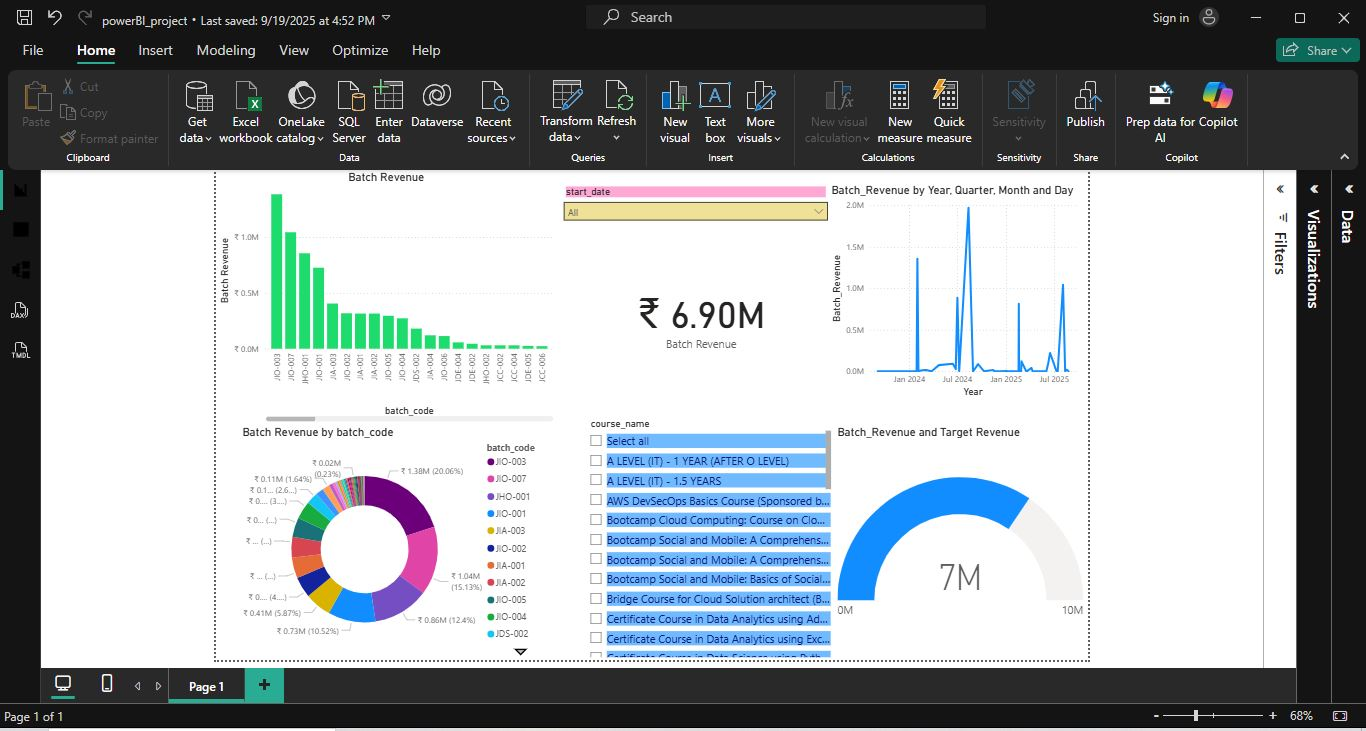

This screenshot's page, from the dashboard's own definition file:
{"tool":"powerbi","page":{"name":"Page 1","canvas":[1280,720],"ordinal":0},"visuals":[{"type":"clusteredColumnChart","title":"Batch Revenue","fields":{"Category":["student_master.batch_code"],"Y":["student_master.Batch Revenue"]},"box":[0,0,500.6,374.6],"z":0},{"type":"donutChart","fields":{"Category":["student_master.batch_code"],"Y":["student_master.Batch Revenue"]},"box":[33.6,374.6,467,346],"z":1000},{"type":"card","fields":{"Values":["student_master.Batch Revenue"]},"box":[527.5,89,371.2,253.6],"z":2000},{"type":"slicer","fields":{"Values":["course_master.course_name"]},"box":[537.5,359.5,371.2,361.2],"z":3000},{"type":"slicer","fields":{"Values":["batch_master.start_date"]},"box":[501.1,18.7,407.5,70.6],"z":4000},{"type":"lineChart","fields":{"Y":["student_master.Batch_Revenue"],"Category":["batch_master.start_date.Variation.Date Hierarchy.Year","batch_master.start_date.Variation.Date Hierarchy.Quarter","batch_master.start_date.Variation.Date Hierarchy.Month","batch_master.start_date.Variation.Date Hierarchy.Day"]},"box":[898.6,18.7,371.5,319.7],"z":4001},{"type":"gauge","fields":{"MaxValue":["student_master.Target Revenue"],"Y":["student_master.Batch_Revenue"]},"box":[908.8,374.6,371.2,346],"z":4002}]}

Visuals, with their boxes on the page's 1280x720 design canvas (x1, y1, x2, y2). These are canvas units, not pixel positions in the 1366x731 screenshot, which may show the page scaled, cropped or inside an application window:
"Batch Revenue" clusteredColumnChart: 0/0/501/375
donutChart - student_master.batch_code x student_master.Batch Revenue: 34/375/501/721
card - student_master.Batch Revenue: 528/89/899/343
slicer - course_master.course_name: 538/360/909/721
slicer - batch_master.start_date: 501/19/909/89
lineChart - student_master.Batch_Revenue x batch_master.start_date.Variation.Date Hierarchy.Year: 899/19/1270/338
gauge - student_master.Target Revenue x student_master.Batch_Revenue: 909/375/1280/721
